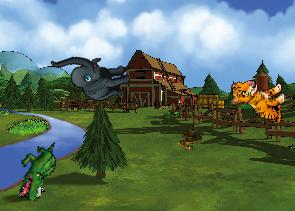crocodile: (17, 140, 57, 202)
elephant: (50, 38, 134, 113)
tiger: (231, 78, 286, 124)
